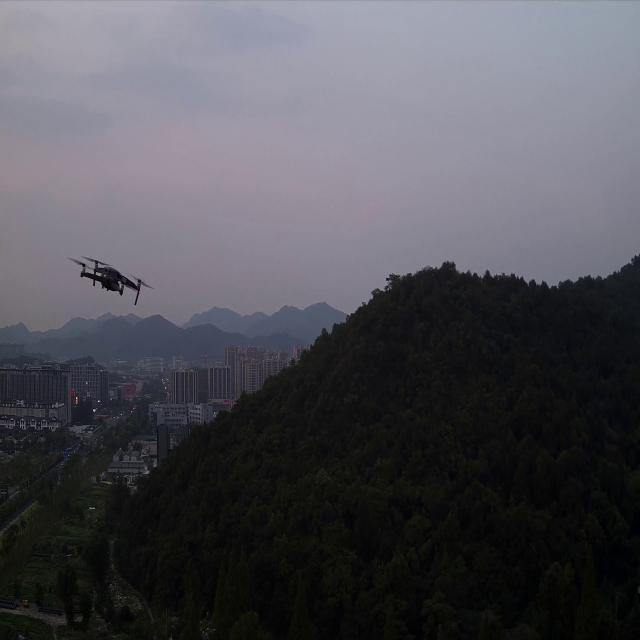UAV: (65, 253, 157, 308)
